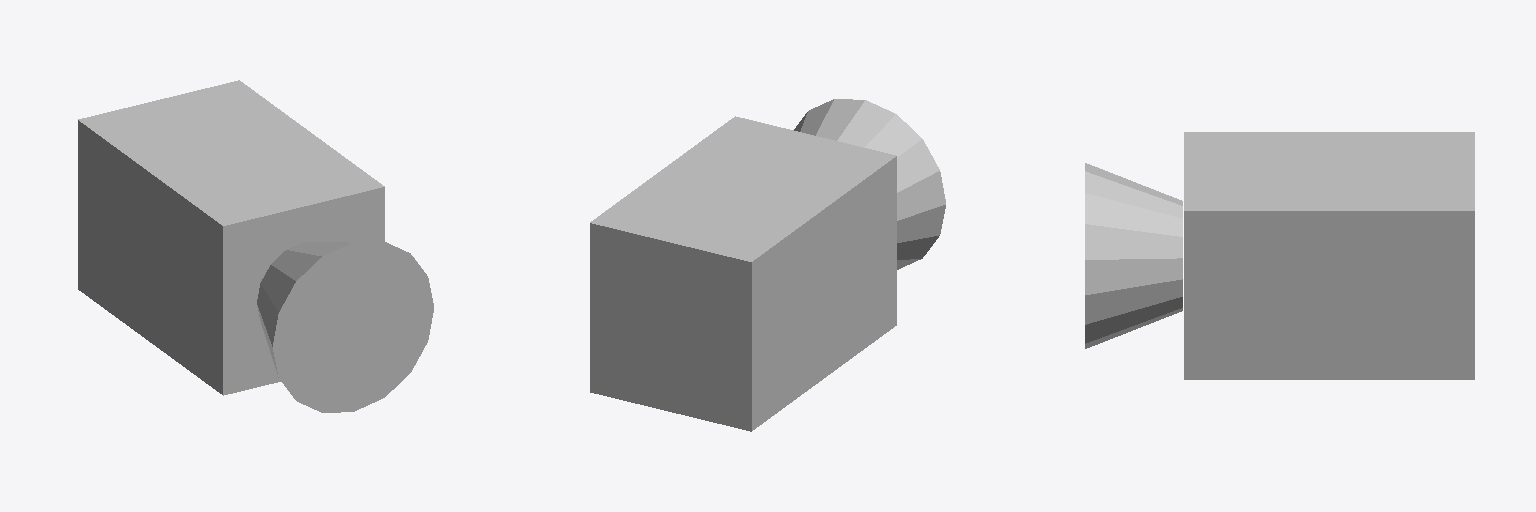
File: camera.obj
3 renders of one model, left to right at view 1: azimuth 30°, elevation 25°; view 2: azimuth 150°, elevation 25°; view 3: azimuth 270°, elevation 25°, orthographic.
Parts seen in each view (by area): view 1: Cylinder; view 2: Cylinder; view 3: Cylinder.
Part boxes in pixels (bbox=[...]): Cylinder: bbox=[78, 80, 433, 412]; Cylinder: bbox=[590, 99, 945, 431]; Cylinder: bbox=[1085, 132, 1474, 379].
Size of the model in its own units: 0.597 by 0.597 by 1.24.